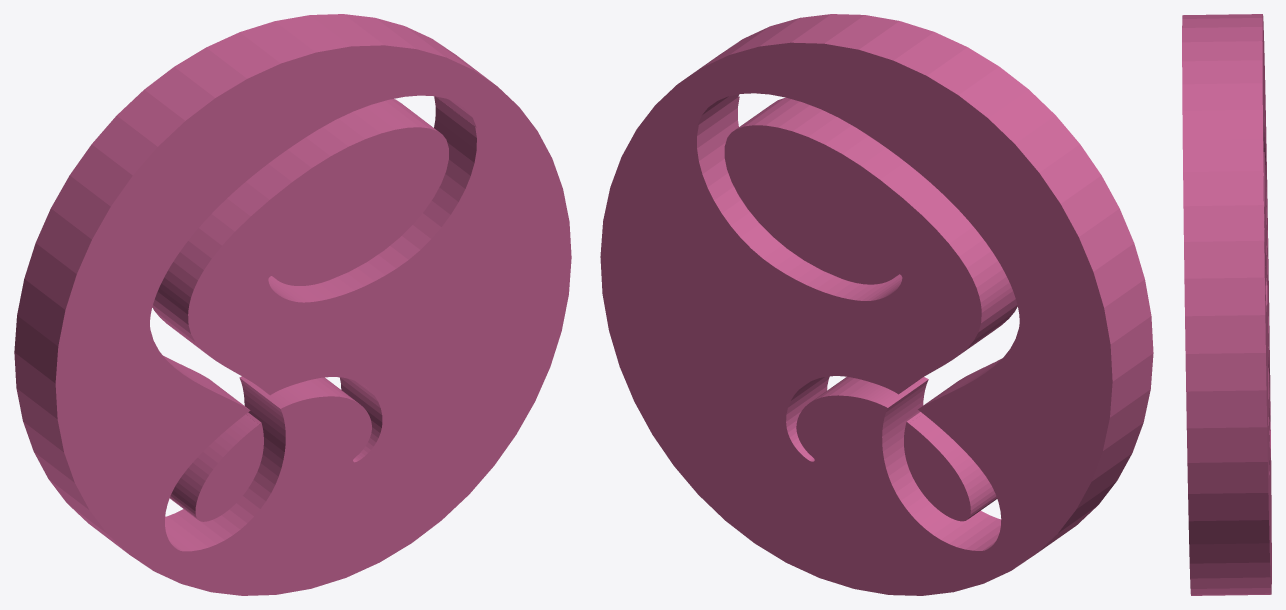
Rendered from Sass_model.glb.
The picture shows the model from 3 angles, left to right: view 1: azimuth 30°, elevation 25°; view 2: azimuth 150°, elevation 25°; view 3: azimuth 270°, elevation 25°; orthographic projection. The views are drawn at different scales.
Parts seen in each view (by area): view 1: Curve; view 2: Curve; view 3: Curve.
Part boxes in pixels (x1,y1,x2,y2): Curve: [14, 14, 571, 595]; Curve: [600, 14, 1153, 595]; Curve: [1182, 14, 1271, 595].
Size of the model in its own units: 0.00677 by 0.00679 by 0.00105.
